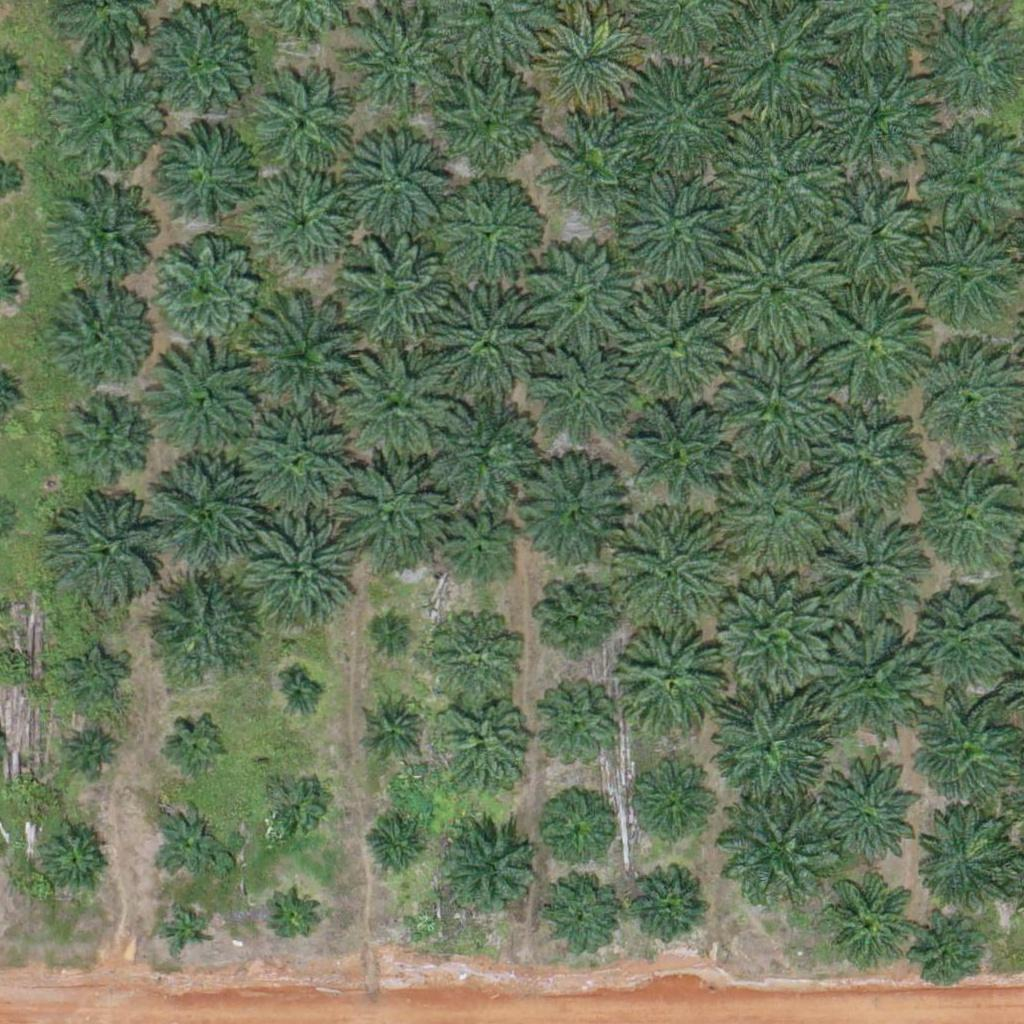Kelapa_Sawit: (245, 295, 370, 421), (43, 489, 168, 615), (718, 119, 843, 245), (712, 222, 837, 347), (240, 403, 353, 517), (150, 348, 263, 462), (148, 233, 261, 347), (52, 65, 165, 179), (910, 686, 1023, 799), (820, 291, 933, 404), (810, 396, 923, 509), (807, 514, 920, 627), (720, 788, 833, 901), (610, 620, 723, 733), (513, 460, 626, 573), (431, 288, 544, 401), (417, 389, 530, 502), (238, 512, 351, 625), (151, 454, 264, 567), (142, 569, 255, 682), (906, 218, 1019, 331), (820, 177, 933, 290), (822, 58, 935, 171), (531, 7, 644, 120), (528, 240, 641, 353), (429, 65, 542, 178), (142, 10, 255, 123), (331, 449, 443, 563), (45, 184, 157, 298), (816, 618, 928, 731), (812, 764, 924, 877), (719, 345, 831, 458), (717, 454, 829, 567), (715, 573, 827, 686), (711, 688, 823, 801), (613, 510, 725, 623), (342, 347, 454, 460), (618, 60, 730, 173), (618, 171, 730, 284), (617, 283, 729, 396), (341, 5, 453, 118), (337, 237, 449, 350), (915, 584, 1015, 685), (916, 806, 1016, 907), (627, 407, 727, 508), (436, 819, 536, 920), (439, 185, 539, 286), (346, 130, 446, 231), (254, 79, 354, 180), (51, 282, 151, 383), (255, 172, 355, 272), (159, 126, 259, 226), (820, 876, 908, 964), (431, 610, 519, 698), (439, 704, 527, 792), (61, 399, 149, 487), (549, 122, 636, 211), (625, 757, 712, 845), (536, 354, 623, 442), (539, 580, 614, 656), (633, 873, 708, 949), (541, 695, 616, 771), (544, 877, 619, 953), (437, 513, 512, 589), (36, 821, 111, 896), (152, 803, 227, 878), (541, 800, 604, 863), (365, 818, 428, 881), (260, 773, 323, 836), (915, 917, 978, 980), (64, 646, 126, 709), (168, 715, 230, 778), (266, 895, 316, 946), (70, 724, 120, 775), (159, 904, 209, 955), (368, 703, 418, 753), (376, 614, 414, 652), (281, 676, 318, 714)
